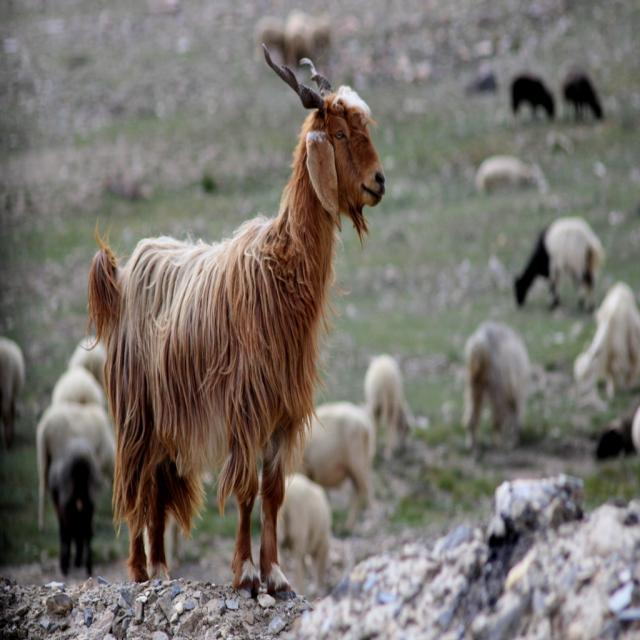not_pig: (85, 41, 386, 597), (36, 400, 116, 577), (513, 215, 605, 313)
